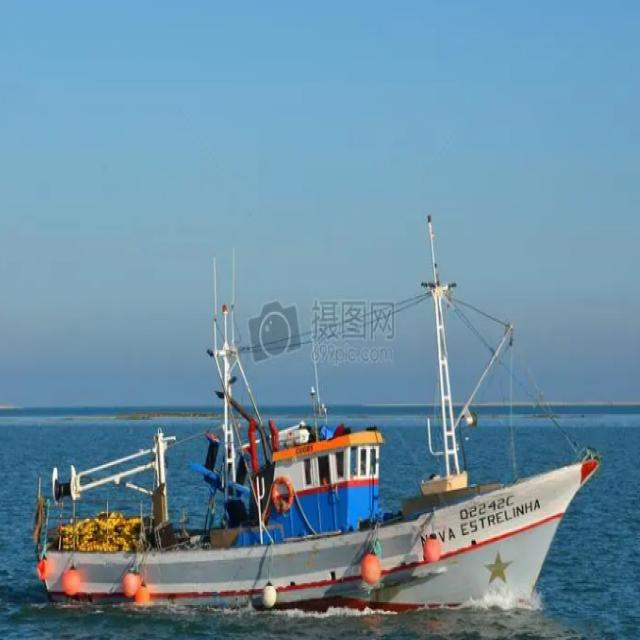fishing boat: (38, 254, 600, 596)
